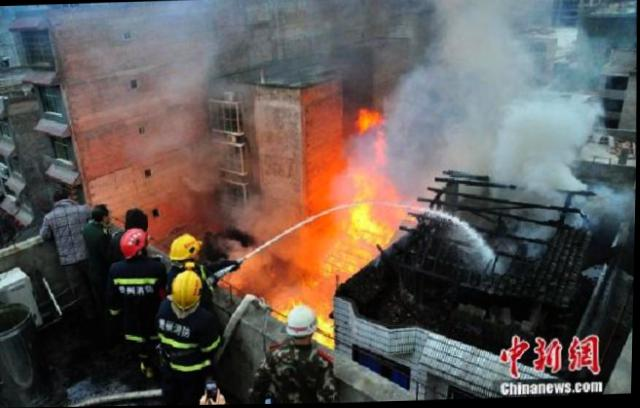fire: (345, 171, 393, 245), (303, 234, 364, 275), (294, 276, 333, 302), (314, 317, 337, 346), (356, 111, 381, 132), (273, 302, 290, 320)
smoke: (394, 0, 608, 167), (119, 0, 223, 176)
